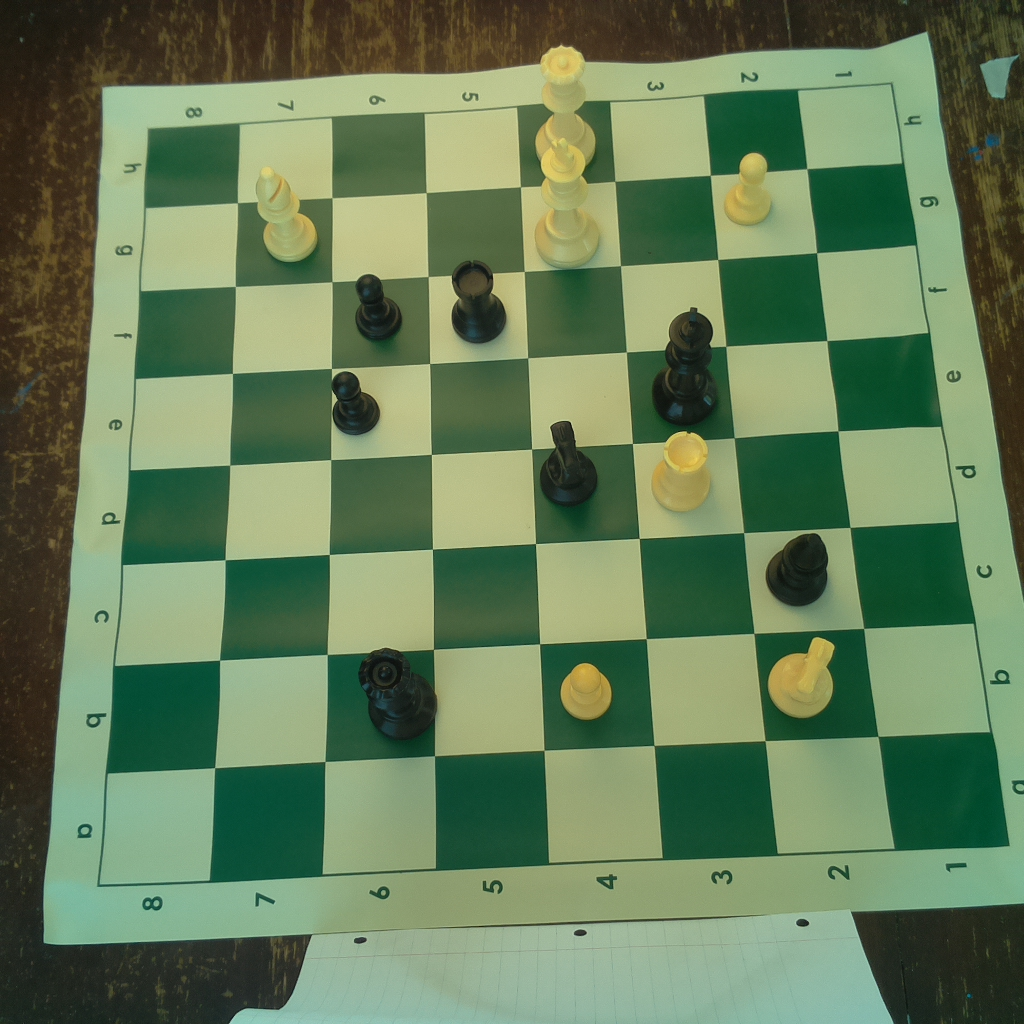black_bishop: (764, 527, 831, 606)
black_king: (653, 305, 720, 426)
black_knight: (532, 417, 603, 509)
black_pawn: (344, 270, 405, 341), (328, 369, 384, 434)
black_queen: (354, 643, 441, 743)
black_rook: (442, 253, 514, 347)
file_a: (99, 734, 1011, 883)
file_b: (105, 623, 994, 777)
file_c: (116, 522, 973, 666)
file_d: (121, 426, 959, 565)
file_e: (128, 334, 942, 471)
file_f: (133, 245, 932, 382)
file_g: (141, 164, 914, 293)
file_h: (145, 84, 905, 209)
outline: (96, 84, 1014, 888)
rank_1: (803, 82, 1008, 853)
rank_2: (706, 90, 894, 854)
rank_3: (611, 96, 781, 860)
rank_4: (518, 102, 666, 866)
rank_5: (424, 104, 550, 874)
rank_6: (320, 113, 440, 871)
rank_7: (212, 119, 333, 882)
rank_8: (96, 122, 241, 891)
white_bishop: (249, 164, 323, 264)
white_king: (532, 132, 606, 270)
white_knight: (764, 632, 838, 722)
white_pawn: (720, 149, 779, 230), (553, 658, 621, 723)
white_queen: (529, 41, 601, 171)
white_rook: (647, 427, 719, 514)
